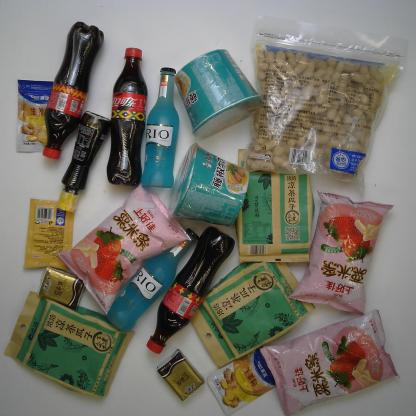Alcohol: (103, 228, 199, 334), (142, 67, 180, 188)
Dried Food: (236, 24, 405, 196), (190, 257, 318, 368), (4, 290, 135, 398), (235, 163, 312, 267)
Drink: (146, 224, 236, 354), (40, 20, 108, 161), (106, 46, 145, 188)
Instant Noodles: (172, 45, 264, 139), (165, 140, 250, 229)
Puffed Food: (58, 181, 193, 314), (258, 308, 398, 413), (288, 187, 394, 316)
Seasoner: (54, 111, 109, 214), (206, 345, 277, 416), (21, 197, 78, 272), (12, 77, 56, 156)
Tissue: (156, 350, 204, 401), (38, 266, 84, 309)
